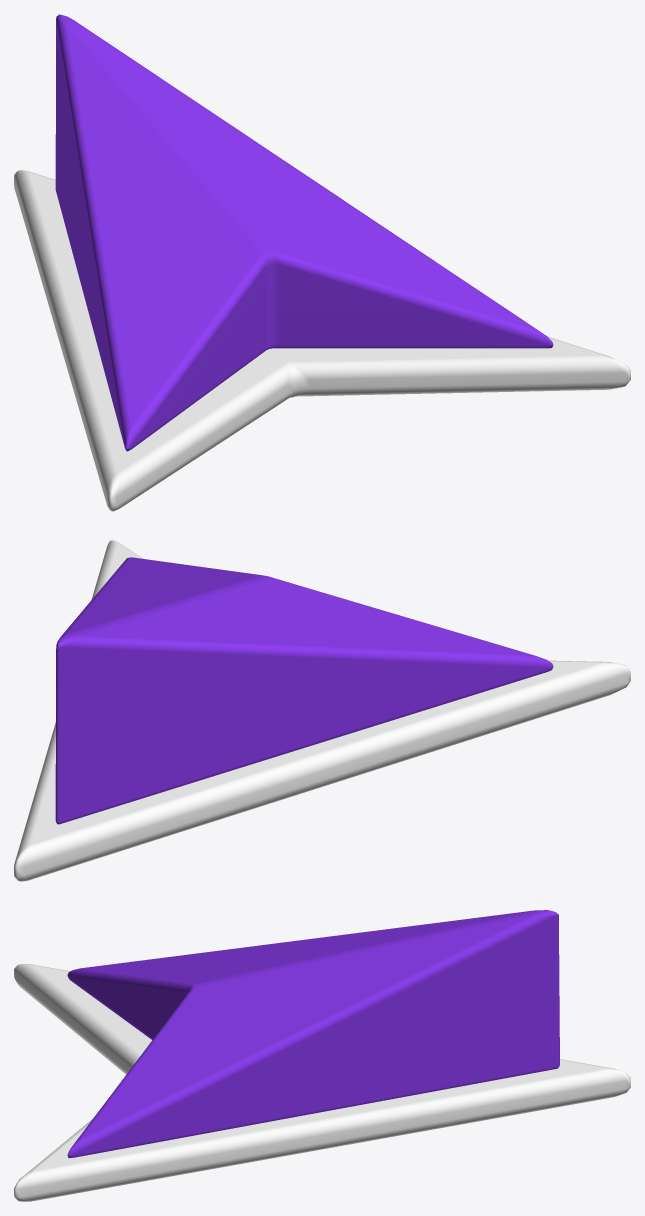
File: arrow.glb
3 renders of one model, top to bottom at view 1: azimuth 30°, elevation 25°; view 2: azimuth 150°, elevation 25°; view 3: azimuth 270°, elevation 25°, orthographic. The views are drawn at different scales.
Parts seen in each view (by area): view 1: ArrowTent, ArrowRim; view 2: ArrowTent, ArrowRim; view 3: ArrowTent, ArrowRim.
Boxes of the visible parts, x1,y1,x2,y2 form: ArrowTent: [55, 14, 553, 451]; ArrowRim: [14, 170, 630, 511]; ArrowTent: [55, 557, 553, 824]; ArrowRim: [14, 540, 630, 881]; ArrowTent: [67, 910, 559, 1158]; ArrowRim: [14, 964, 630, 1201].
Size of the model in its own units: 2.42 by 0.9542 by 2.85.
